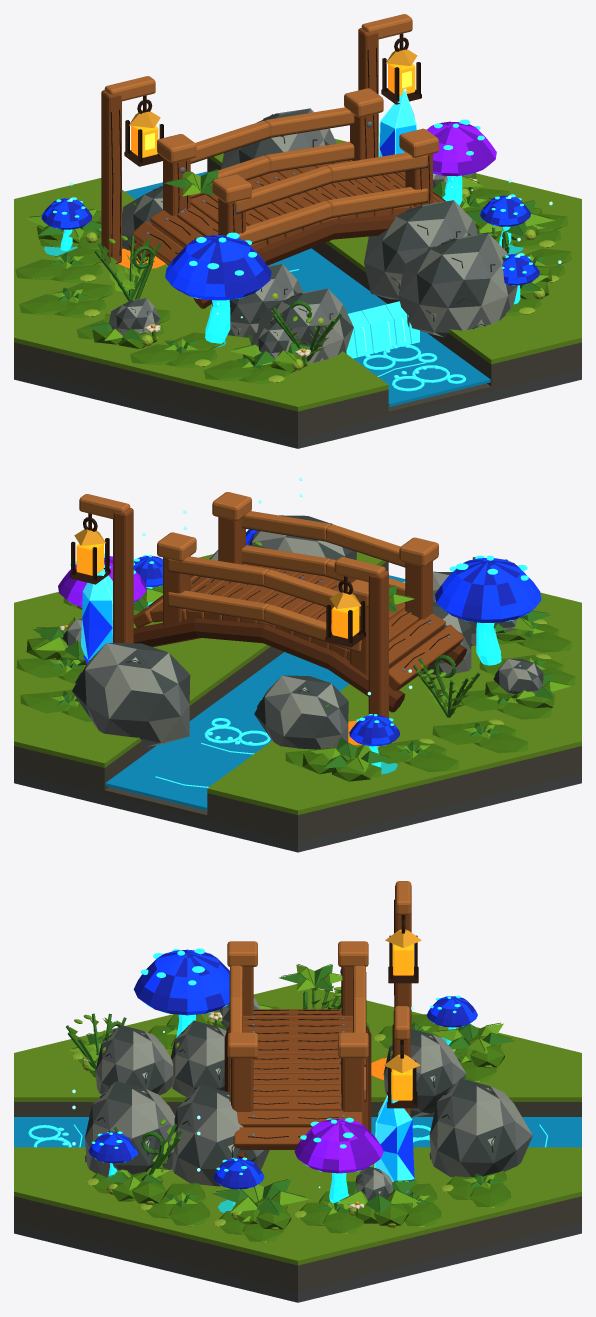
The model's file is hex_woodland_bridge.glb.
3 renders of one model, top to bottom at view 1: azimuth 30°, elevation 25°; view 2: azimuth 150°, elevation 25°; view 3: azimuth 270°, elevation 25°, orthographic.
Parts seen in each view (by area): view 1: Meadow river bank.002, Meadow river bank.003, Angular mossy forest boulder.002, Cut river bank.002, Continuous river water.001, River hex stone foundation.001, Angular mossy forest boulder.006, Broad faceted mushroom cap.001, Cut river bank.003, Angular mossy forest boulder.001, River hex bed.001, Woodland lantern upright.001 (+44 smaller); view 2: Meadow river bank.002, Meadow river bank.003, Continuous river water.001, Angular mossy forest boulder.004, Cut river bank.002, River hex stone foundation.001, Angular mossy forest boulder.003, Arched wooden stringer.001, Broad faceted mushroom cap.001, Cut river bank.003, River hex bed.001, Woodland lantern upright.001 (+44 smaller); view 3: Meadow river bank.003, Cut river bank.003, Meadow river bank.002, Angular mossy forest boulder.004, River hex stone foundation.001, Angular mossy forest boulder.006, Angular mossy forest boulder.002, Broad faceted mushroom cap.001, Continuous river water.001, Angular mossy forest boulder.001, Broad faceted mushroom cap.003, Angular mossy forest boulder.005 (+42 smaller).
Part boxes in pixels (<box>): Meadow river bank.002: <box>14,178,388,411</box>; Meadow river bank.003: <box>209,139,581,364</box>; Angular mossy forest boulder.002: <box>398,233,517,337</box>; Cut river bank.002: <box>14,342,388,433</box>; Continuous river water.001: <box>125,171,490,406</box>; River hex stone foundation.001: <box>14,369,581,448</box>; Angular mossy forest boulder.006: <box>364,200,477,299</box>; Broad faceted mushroom cap.001: <box>165,235,271,300</box>; Cut river bank.003: <box>207,158,581,386</box>; Angular mossy forest boulder.001: <box>257,288,353,363</box>; River hex bed.001: <box>14,364,581,438</box>; Woodland lantern upright.001: <box>101,90,121,265</box>; Meadow river bank.002: <box>207,592,581,814</box>; Meadow river bank.003: <box>14,552,386,767</box>; Continuous river water.001: <box>105,575,405,810</box>; Angular mossy forest boulder.004: <box>72,643,190,746</box>; Cut river bank.002: <box>207,746,581,837</box>; River hex stone foundation.001: <box>14,773,581,852</box>; Angular mossy forest boulder.003: <box>254,675,348,749</box>; Arched wooden stringer.001: <box>133,618,405,712</box>; Broad faceted mushroom cap.001: <box>435,558,541,622</box>; Cut river bank.003: <box>14,562,388,790</box>; River hex bed.001: <box>14,768,581,841</box>; Woodland lantern upright.001: <box>368,571,388,718</box>; Meadow river bank.003: <box>14,1147,581,1265</box>; Cut river bank.003: <box>14,1196,581,1287</box>; Meadow river bank.002: <box>14,984,581,1101</box>; Angular mossy forest boulder.004: <box>429,1078,532,1177</box>; River hex stone foundation.001: <box>14,1223,581,1302</box>; Angular mossy forest boulder.006: <box>172,1085,269,1186</box>; Angular mossy forest boulder.002: <box>85,1081,175,1177</box>; Broad faceted mushroom cap.001: <box>133,949,229,1015</box>; Continuous river water.001: <box>14,1117,581,1147</box>; Angular mossy forest boulder.001: <box>95,1025,173,1095</box>; Broad faceted mushroom cap.003: <box>294,1119,383,1173</box>; Angular mossy forest boulder.005: <box>171,1020,226,1097</box>.
Bounding box in the file's own units: 5.1 × 1.86 × 4.42.
